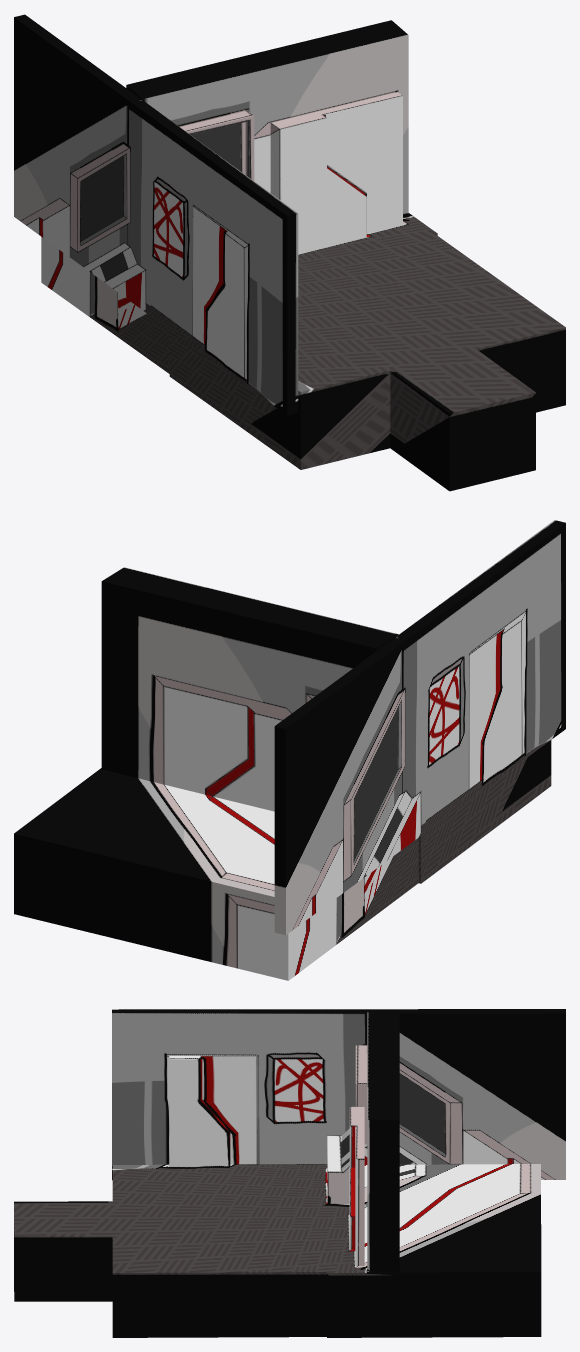
Rendered from чмошнаякомната2.fbx.
The picture shows the model from 3 angles, top to bottom: view 1: azimuth 30°, elevation 25°; view 2: azimuth 150°, elevation 25°; view 3: azimuth 270°, elevation 25°; orthographic projection. The views are drawn at different scales.
Visible parts, largest first — view 1: Cube.002; view 2: Cube.002; view 3: Cube.002.
Part boxes in pixels (x1,y1,x2,y2): Cube.002: (14, 14, 565, 491); Cube.002: (14, 520, 565, 980); Cube.002: (14, 1009, 565, 1337).
Bounding box in the file's own units: 377 × 334 × 770.
1 material, 1 textured.
